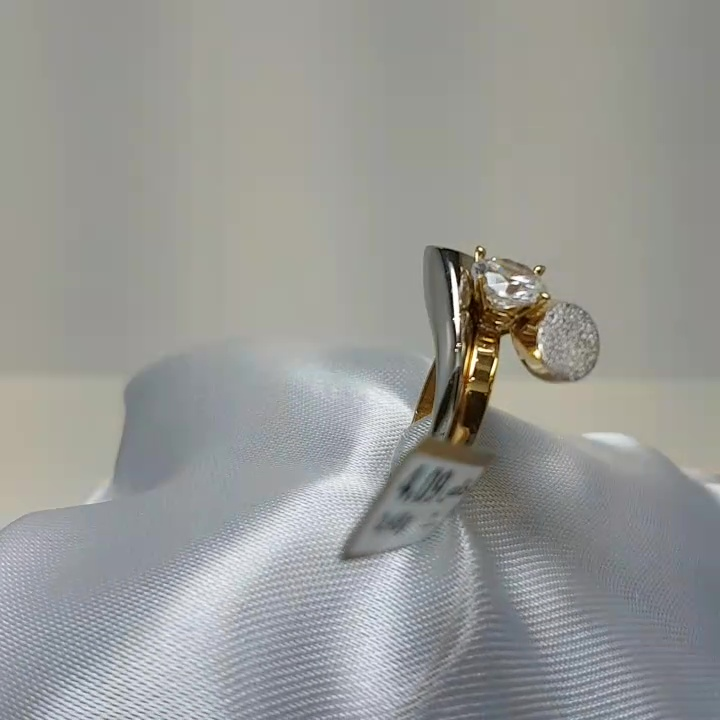Ring 7: (370, 222, 617, 506)
